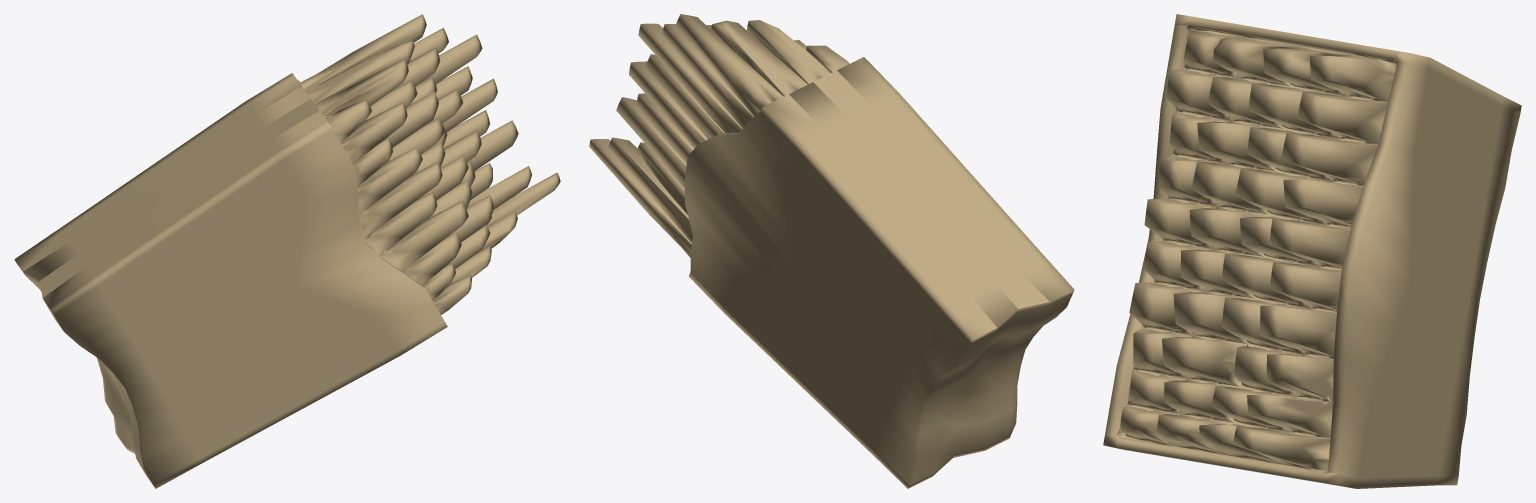
File: SM_FrenchFries.fbx
3 views of the same model, side by side, from view 1: azimuth 30°, elevation 25°; view 2: azimuth 150°, elevation 25°; view 3: azimuth 270°, elevation 25° (orthographic). The views are drawn at different scales.
Parts seen in each view (by area): view 1: Fries_low; view 2: Fries_low; view 3: Fries_low.
Boxes of the visible parts, <box> form: Fries_low: <box>14,14,560,488</box>; Fries_low: <box>589,14,1074,488</box>; Fries_low: <box>1103,14,1521,488</box>.
Bounding box in the file's own units: 160 × 118 × 69.12.
